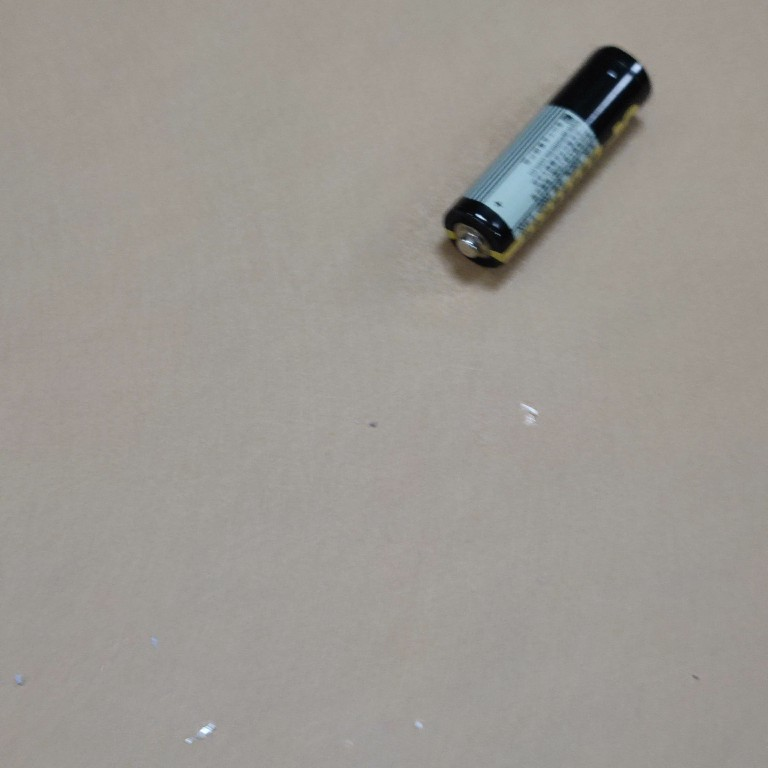charge: (438, 39, 655, 274)
